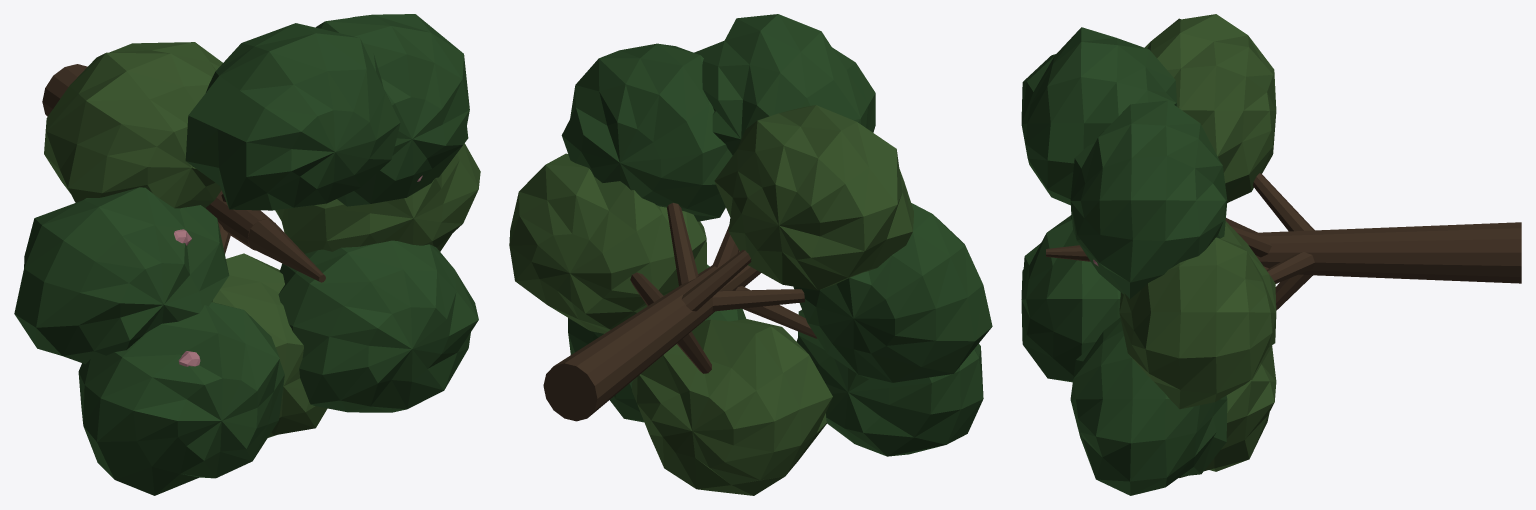
File: TP_DBA_PCG_ForestCanopy.obj
The picture shows the model from 3 angles, left to right: view 1: azimuth 30°, elevation 25°; view 2: azimuth 150°, elevation 25°; view 3: azimuth 270°, elevation 25°; orthographic projection. The views are drawn at different scales.
Visible parts, largest first — view 1: TP_DBA_PCG_ForestCanopy; view 2: TP_DBA_PCG_ForestCanopy; view 3: TP_DBA_PCG_ForestCanopy.
Boxes of the visible parts, x1,y1,x2,y2 form: TP_DBA_PCG_ForestCanopy: [14, 14, 480, 495]; TP_DBA_PCG_ForestCanopy: [509, 14, 992, 495]; TP_DBA_PCG_ForestCanopy: [1021, 14, 1521, 495].
Size of the model in its own units: 526 by 484 by 510.
